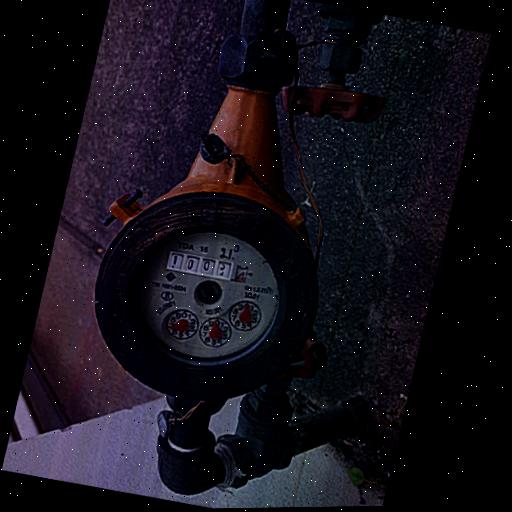0: (200, 259, 215, 275), (185, 256, 199, 272)
1: (169, 253, 184, 269)
3: (217, 261, 232, 278)
4: (234, 265, 248, 282)
border_water_meter_number: (165, 250, 250, 285)
